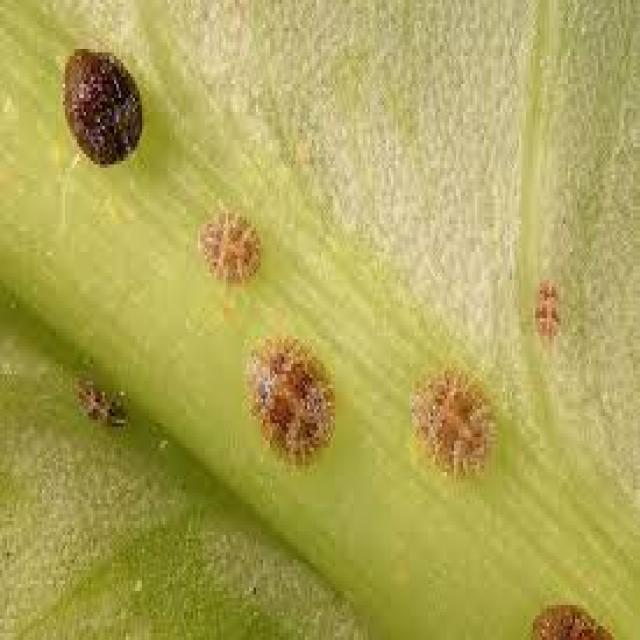scale_insect: (230, 318, 344, 472), (398, 350, 498, 490), (49, 31, 146, 168), (188, 200, 263, 290), (61, 357, 132, 444), (517, 588, 614, 636), (528, 262, 563, 346)
